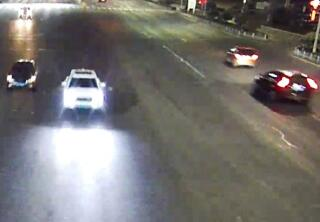car: (250, 67, 319, 112), (59, 66, 106, 117), (4, 55, 39, 92), (222, 43, 257, 67), (17, 5, 32, 19)
